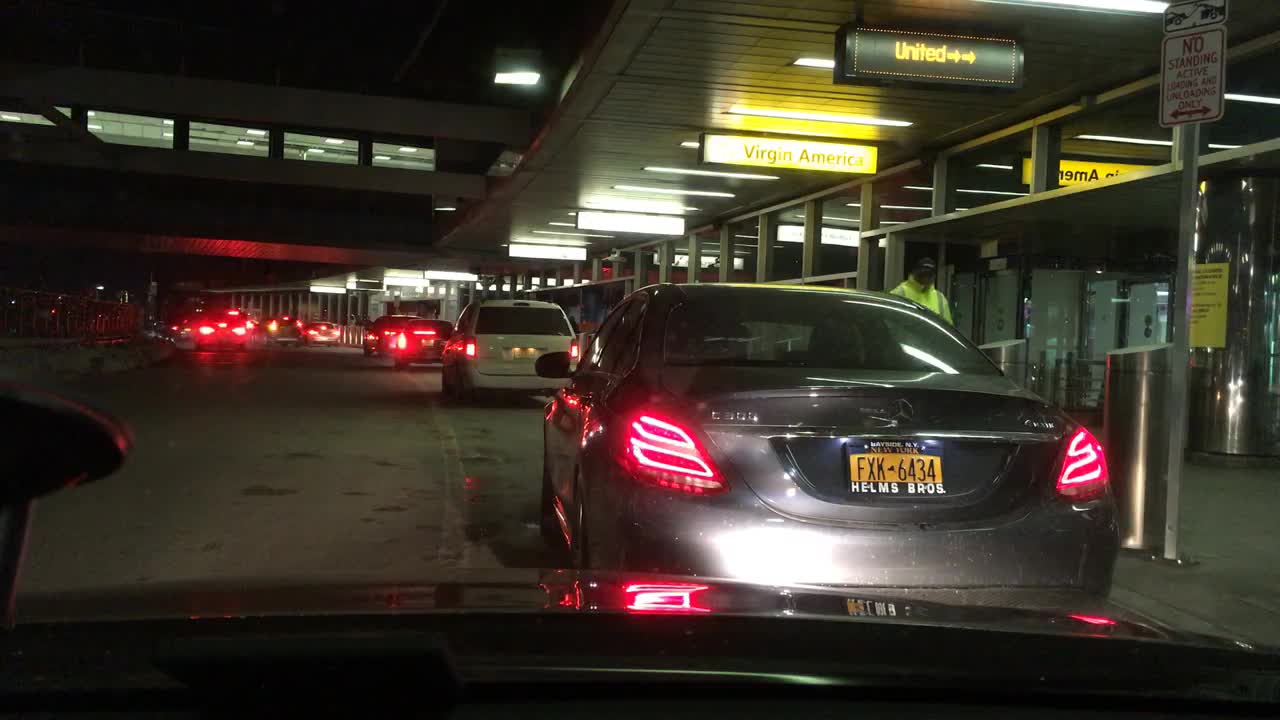car: (531, 280, 1115, 615), (435, 299, 576, 399), (390, 320, 451, 371), (364, 315, 421, 356), (192, 316, 244, 346), (257, 315, 300, 346), (304, 321, 341, 345), (227, 305, 253, 331), (174, 320, 192, 339)
person: (888, 255, 954, 326)
traffic sign: (838, 24, 1025, 92), (1160, 27, 1227, 126), (1164, 0, 1227, 28)
